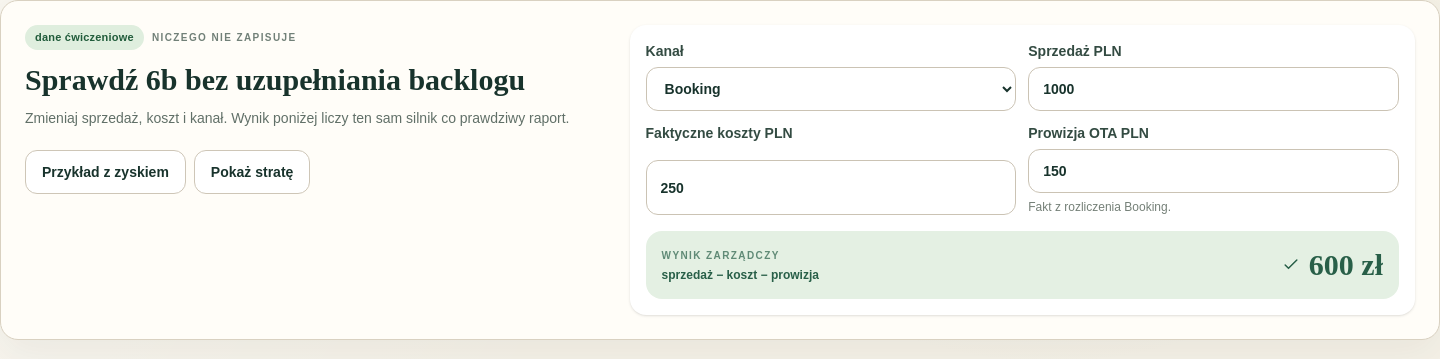
ManagementScenarioLab › lets the owner verify profit, loss and direct commission behavior without saved data
The width and height of the screenshot is (1440, 359).
Expected: the text "600 zł" is shown, [1309,247,1383,283]
Click the button "Pokaż stratę" at (252, 172), box [194,150,310,194]
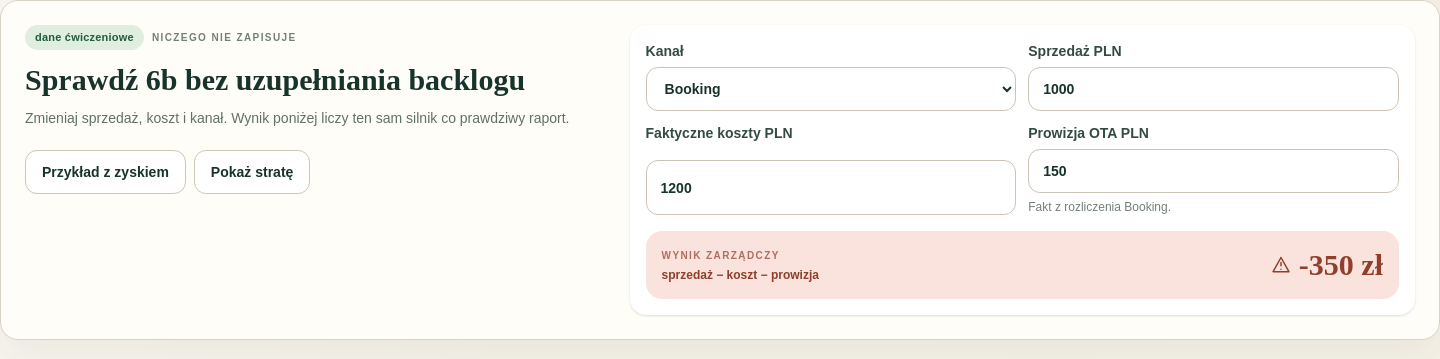
Now the text "-350 zł" is shown, box [1299,247,1383,283]
Select "Bezpośrednio" in the dropdown labelled "Kanał" at (831, 89), box [646,67,1016,111]
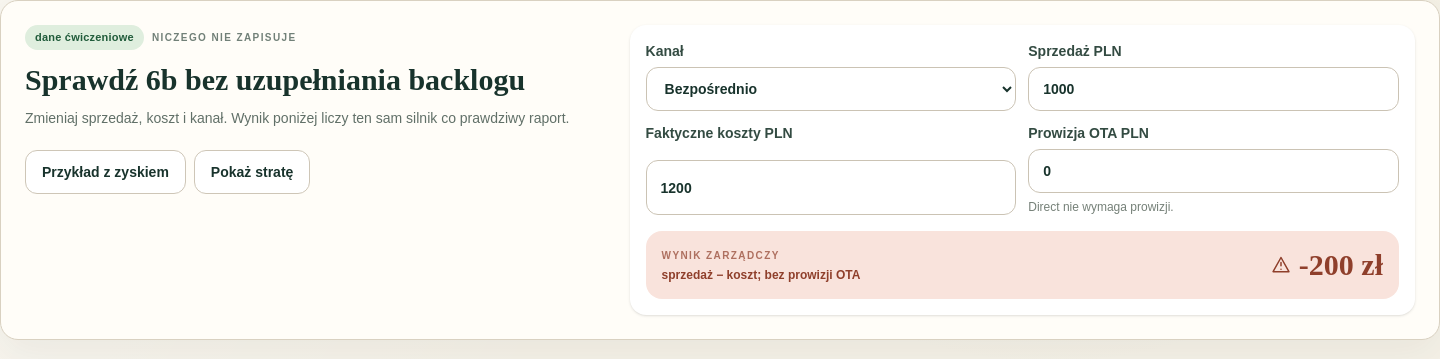
Now the number field labelled "Prowizja OTA PLN Direct nie wymaga prowizji." is disabled, box [1028,149,1399,193]
Now the text "-200 zł" is shown, box [1299,247,1383,283]
Now the text "sprzedaż − koszt; bez prowizji OTA" is shown, box [662,266,860,282]
